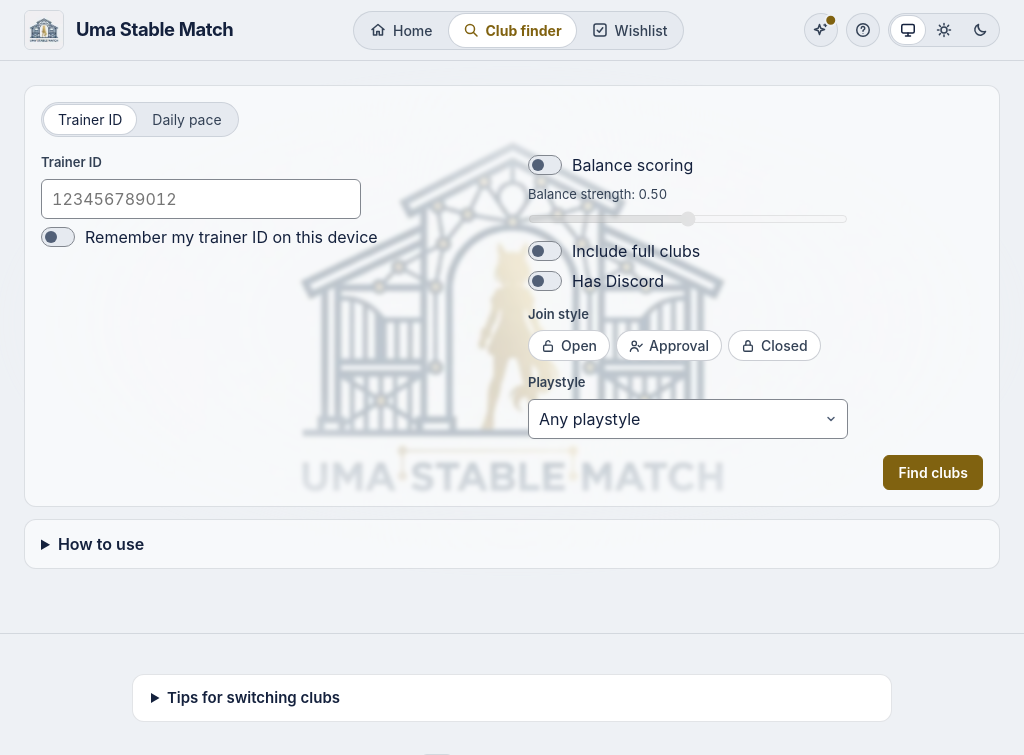
Test: App states › brings the tour back from the help button
Click the button named "Take the tour".
click(863, 30)  # box [846,13,880,47]
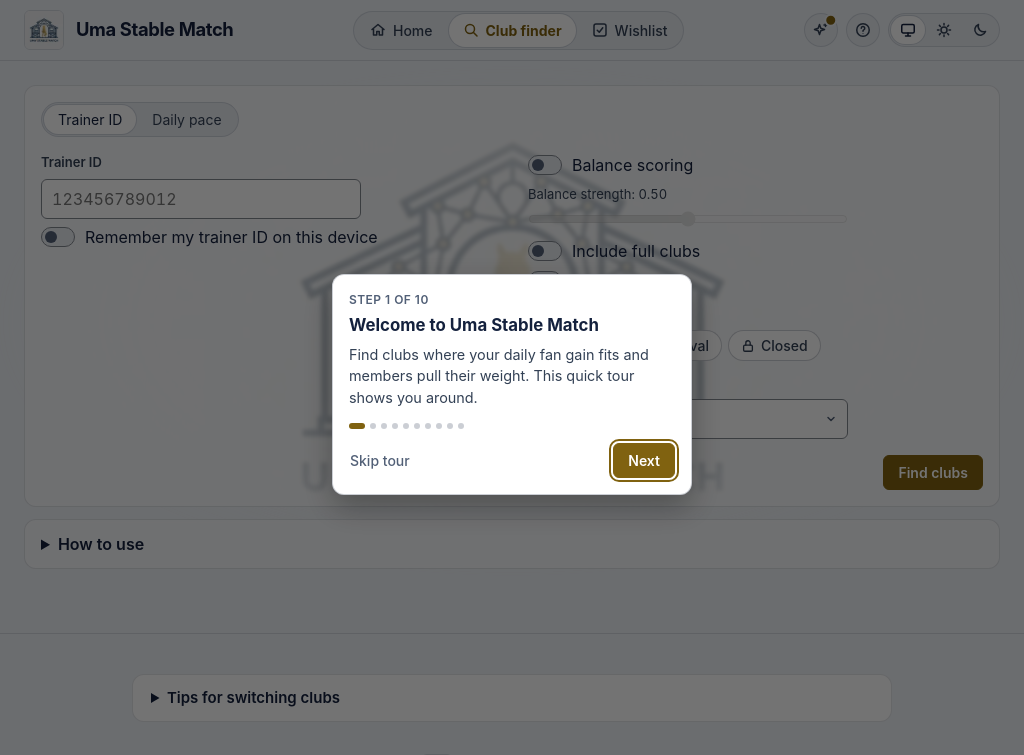
Result: the dialog "Welcome to Uma Stable Match" is shown at [332,274,692,494]
